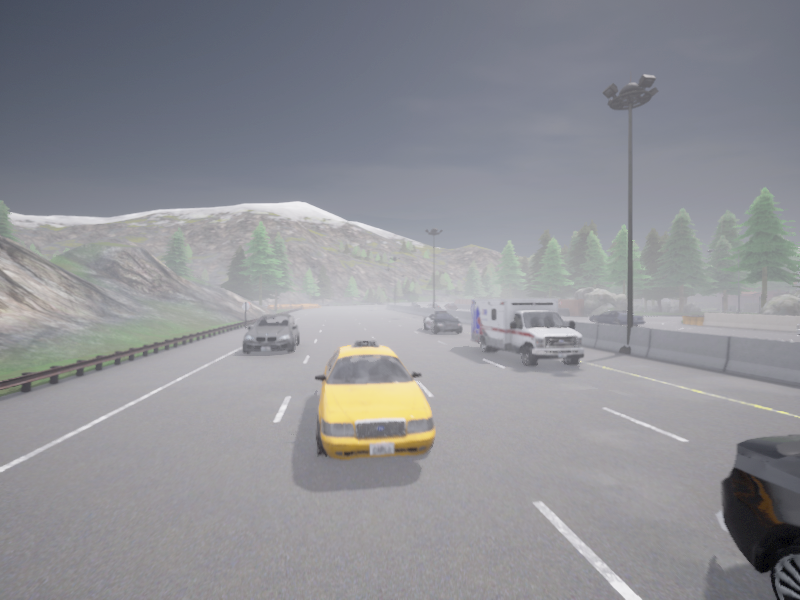vehicle: (314, 340, 435, 459), (716, 434, 799, 599), (470, 299, 583, 366), (242, 314, 300, 353), (422, 311, 462, 334), (589, 310, 644, 326), (427, 303, 439, 308), (444, 304, 456, 309), (409, 303, 418, 306), (797, 324, 799, 334), (428, 303, 431, 304)
